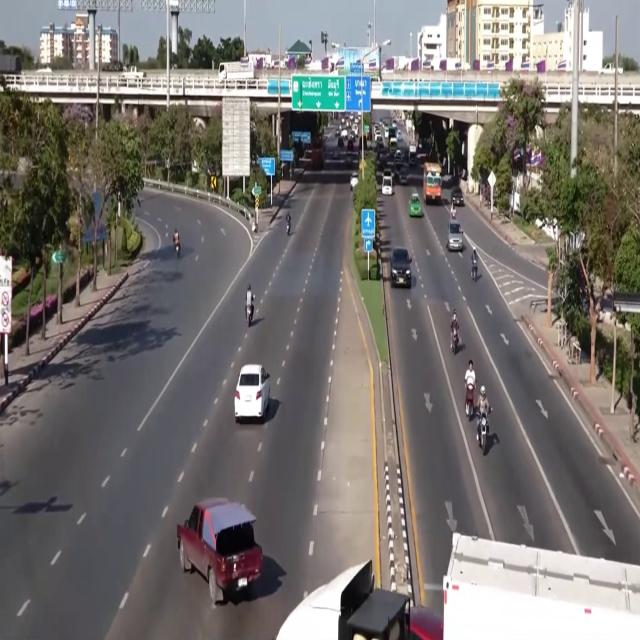car: (177, 498, 262, 605), (235, 364, 269, 423), (409, 607, 443, 639), (391, 248, 411, 287), (446, 220, 464, 252), (409, 193, 423, 216), (451, 186, 464, 207), (382, 176, 392, 196), (394, 160, 403, 182), (399, 165, 408, 184), (350, 173, 358, 191), (395, 149, 403, 160), (347, 139, 354, 151), (375, 131, 382, 143), (383, 168, 391, 178), (396, 129, 402, 142), (348, 130, 355, 140), (341, 128, 348, 138), (334, 128, 340, 139), (338, 137, 344, 148), (341, 118, 345, 125), (392, 120, 396, 127)
scooty: (479, 414, 488, 454), (465, 384, 474, 417), (451, 328, 459, 356), (246, 304, 253, 327), (472, 262, 478, 282), (472, 261, 477, 281), (175, 242, 180, 257), (287, 221, 290, 236)
truck: (443, 533, 639, 639), (275, 560, 412, 639), (423, 162, 441, 203), (218, 62, 255, 80), (308, 141, 324, 170), (0, 54, 21, 74), (409, 144, 416, 166)
